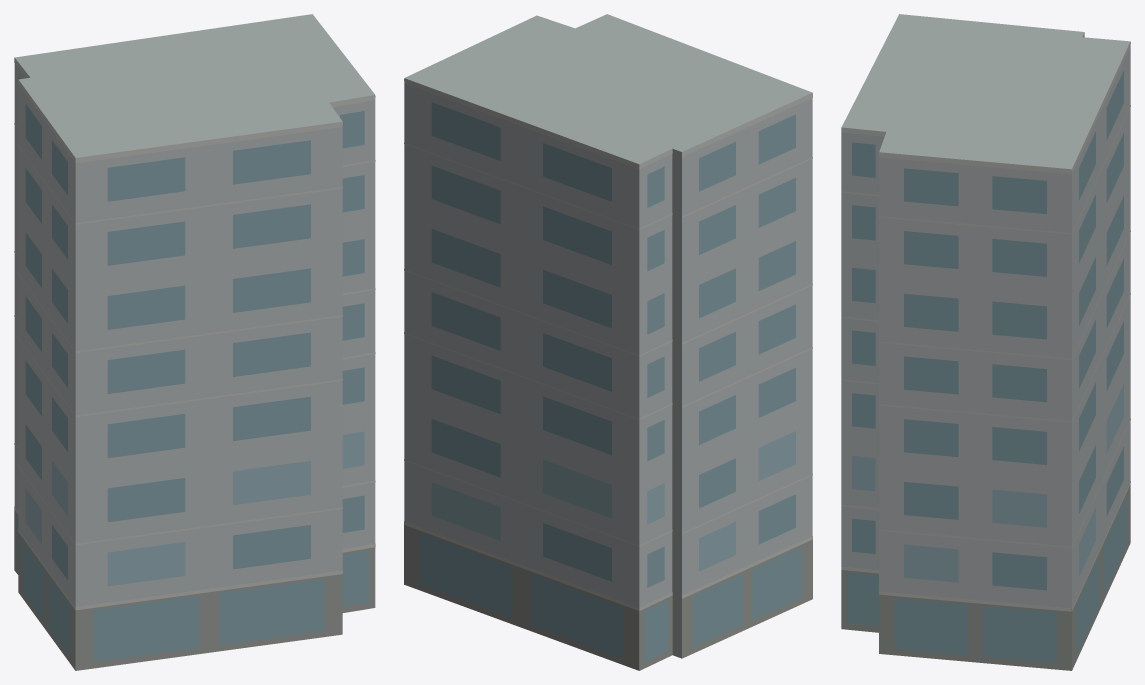
The model's file is survey-upis-33023654.glb.
3 renders of one model, left to right at view 1: azimuth 30°, elevation 25°; view 2: azimuth 150°, elevation 25°; view 3: azimuth 270°, elevation 25°, orthographic. The views are drawn at different scales.
Visible parts, largest first — view 1: survey-upis-33023654.tmp; view 2: survey-upis-33023654.tmp; view 3: survey-upis-33023654.tmp.
Part boxes in pixels (<box>): survey-upis-33023654.tmp: <box>14,14,375,670</box>; survey-upis-33023654.tmp: <box>404,14,812,670</box>; survey-upis-33023654.tmp: <box>841,14,1130,670</box>.
Size of the model in its own units: 15.59 by 23.45 by 12.28.
